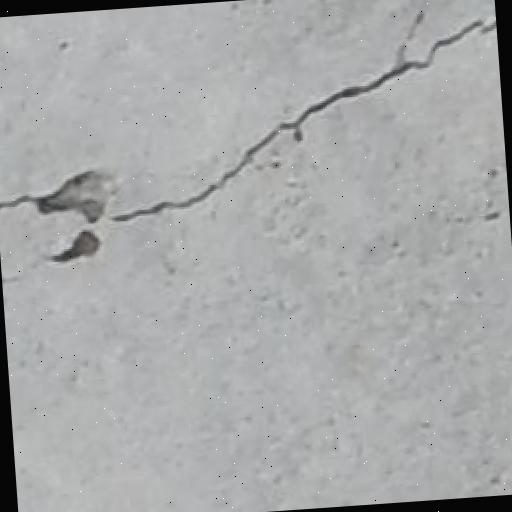spalling: (3, 0, 492, 296)
